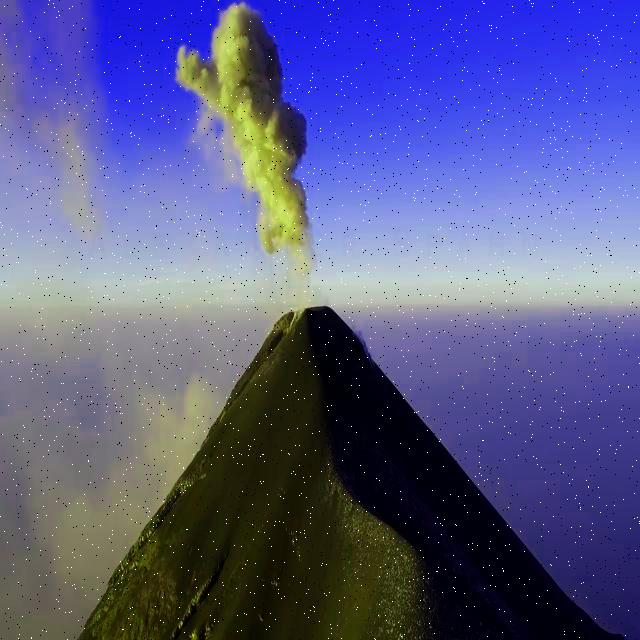Plume: (162, 2, 344, 288)
Summit: (84, 301, 640, 640)
